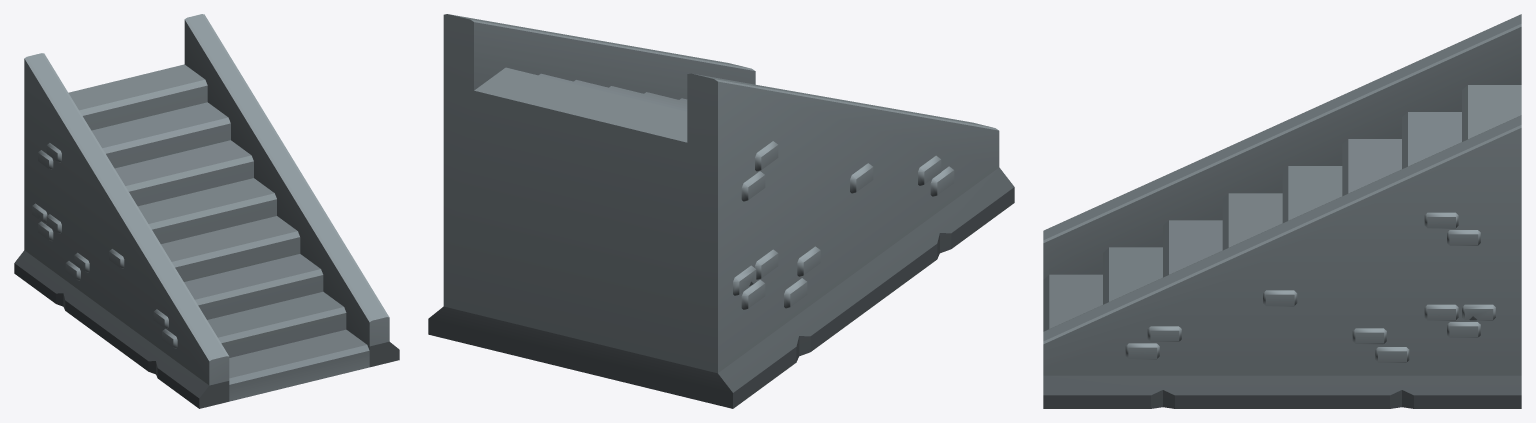
The model's file is stairs_long.gltf.
3 views of the same model, side by side, from view 1: azimuth 30°, elevation 25°; view 2: azimuth 150°, elevation 25°; view 3: azimuth 270°, elevation 25° (orthographic). The views are drawn at different scales.
Parts seen in each view (by area): view 1: stairs_long; view 2: stairs_long; view 3: stairs_long.
Part boxes in pixels (box(x1,y1,x2,y2)): stairs_long: box(14, 14, 399, 408); stairs_long: box(428, 14, 1014, 408); stairs_long: box(1043, 14, 1521, 408).
Bounding box in the file's own units: 5 × 5.1 × 8.
1 material, 1 textured.
